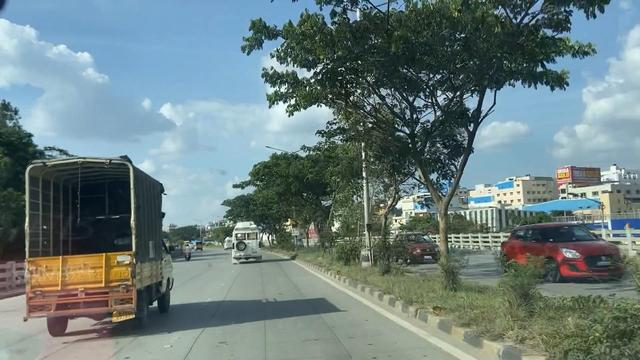HMV: (23, 161, 175, 337), (224, 219, 259, 266)
